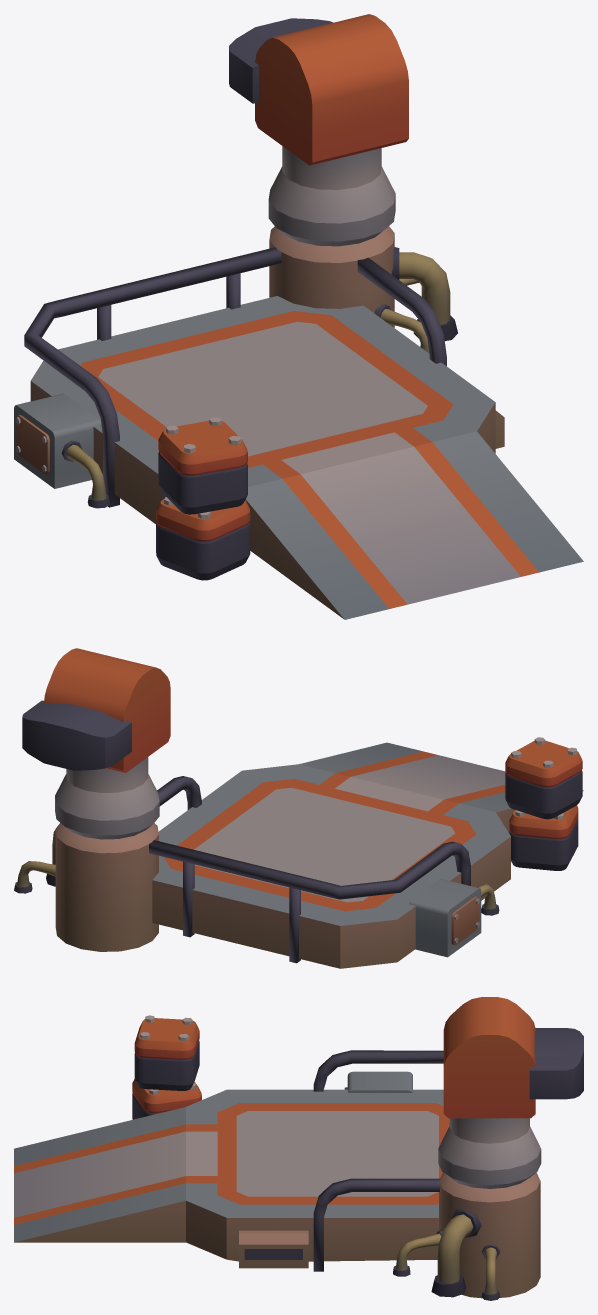
File: DisassemblyTerminal.fbx
3 renders of one model, top to bottom at view 1: azimuth 30°, elevation 25°; view 2: azimuth 150°, elevation 25°; view 3: azimuth 270°, elevation 25°, orthographic. The views are drawn at different scales.
Visible parts, largest first — view 1: DisassemblyTerminal, Cube; view 2: DisassemblyTerminal, Cube; view 3: DisassemblyTerminal, Cube.
Part boxes in pixels (x1=…): DisassemblyTerminal: x1=14, y1=146, x2=583, y2=619; Cube: x1=229, y1=14, x2=408, y2=165; DisassemblyTerminal: x1=14, y1=737, x2=583, y2=968; Cube: x1=22, y1=648, x2=170, y2=772; DisassemblyTerminal: x1=14, y1=1015, x2=541, y2=1300; Cube: x1=443, y1=997, x2=583, y2=1118.
Bounding box in the file's own units: 879 × 568 × 1121.
